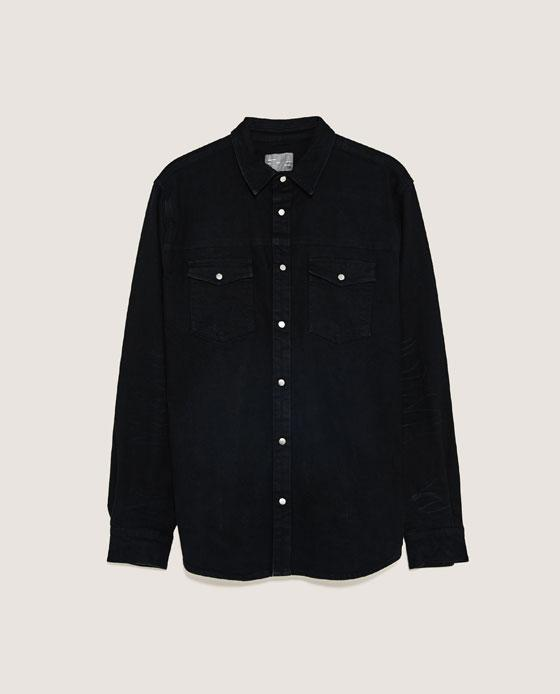teeshirt: (94, 116, 479, 587)
